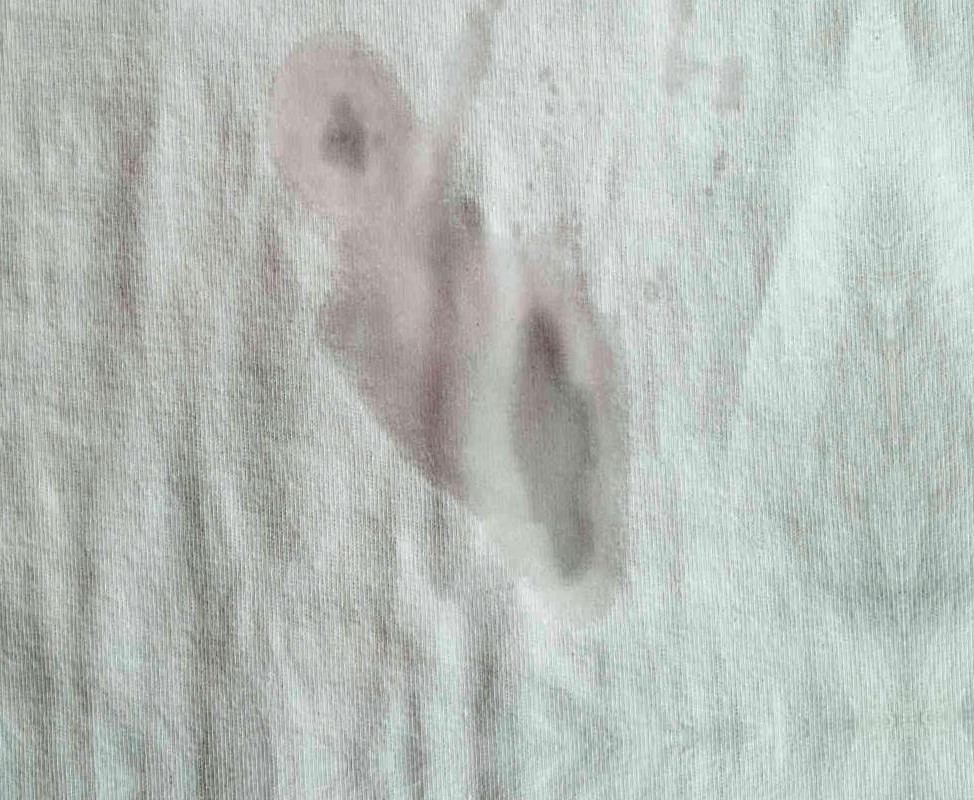stain: (256, 26, 634, 596)
